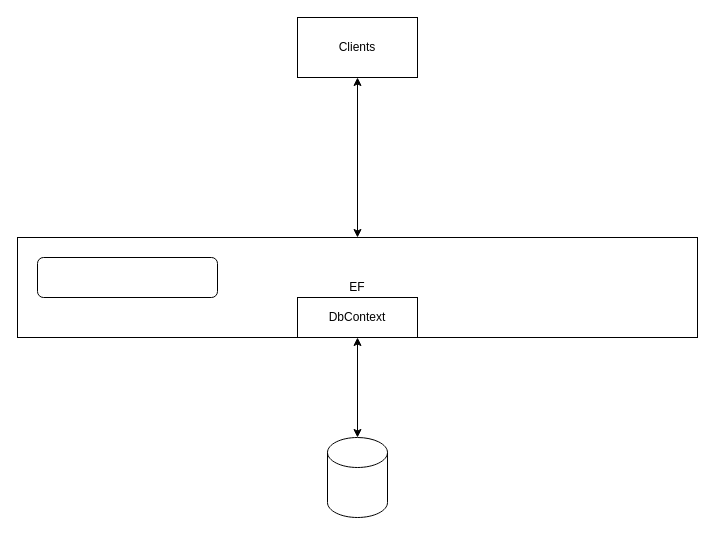
This 715x535 diagram has some shape labels left out. The centre of each missing label's shape, as x and y in pixels:
"DB" belongs at [357,477].
"Entites" belongs at [127,277].
